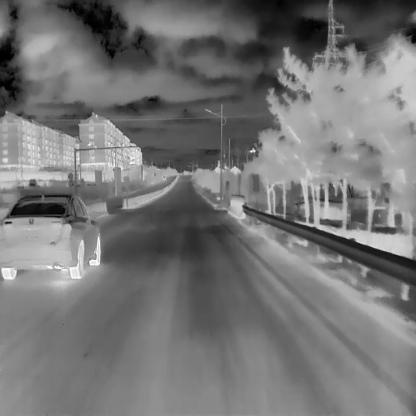car: (0, 191, 99, 278), (160, 175, 166, 180)
